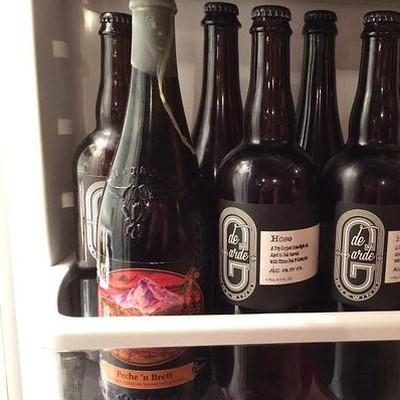beer: (73, 1, 400, 397)
